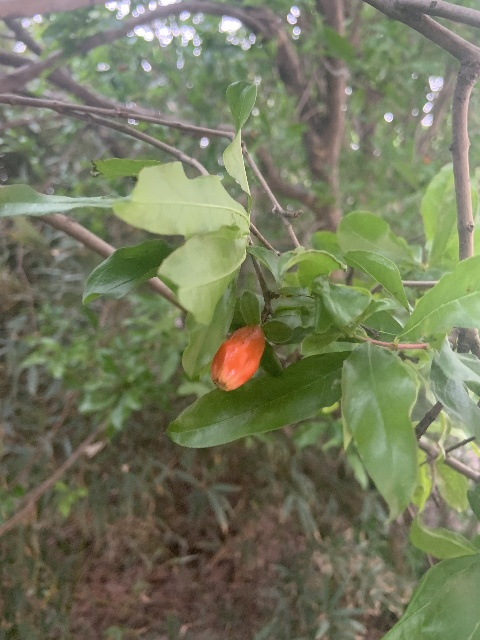bud: (210, 324, 265, 392)
